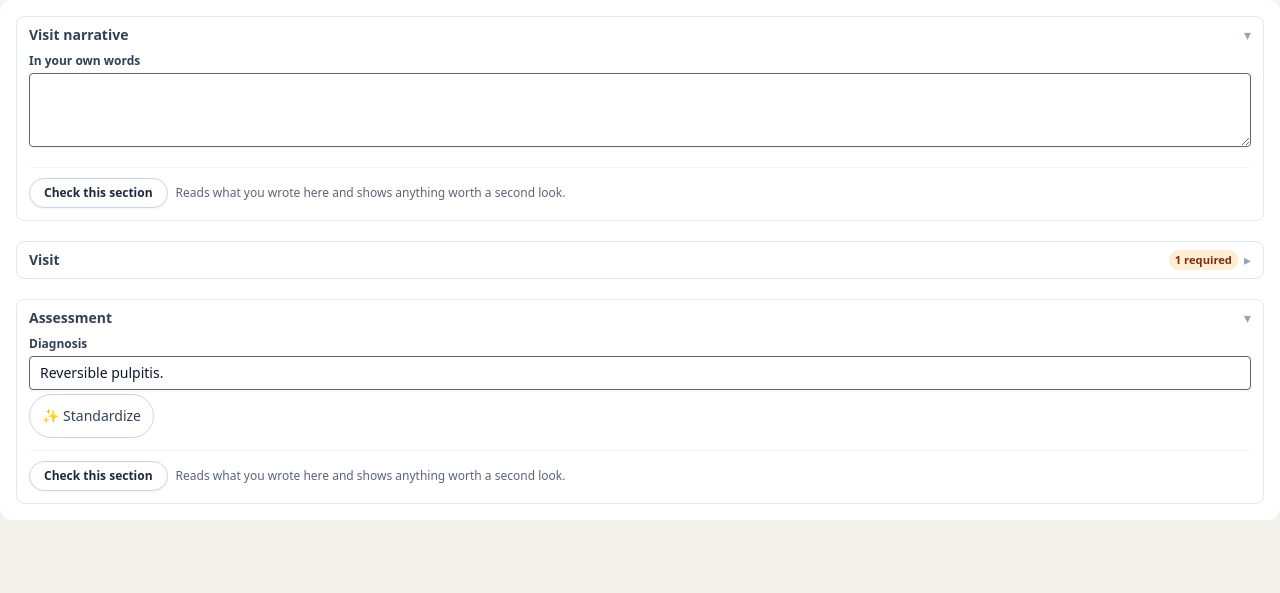
it: checking a section › says so plainly when there is nothing to raise
Step 1. Click the button "Check this section" below "Diagnosis" → (98, 476), box left=29, top=461, right=168, bottom=491
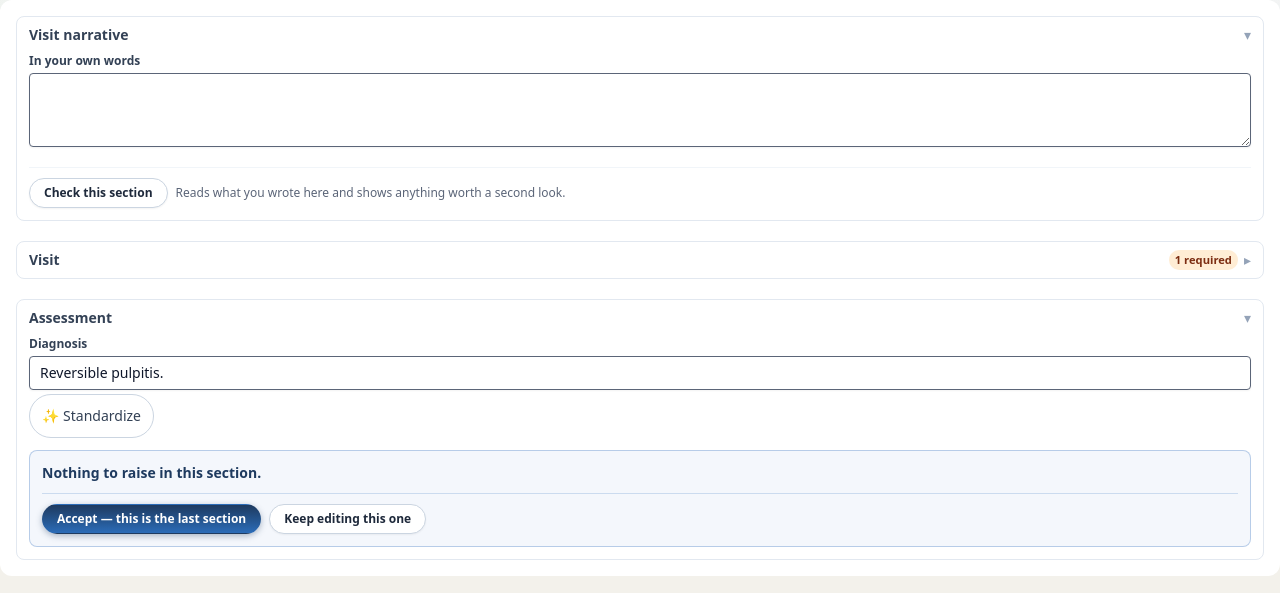
Now the text "Nothing to raise in this section." is shown, box left=42, top=463, right=261, bottom=482
